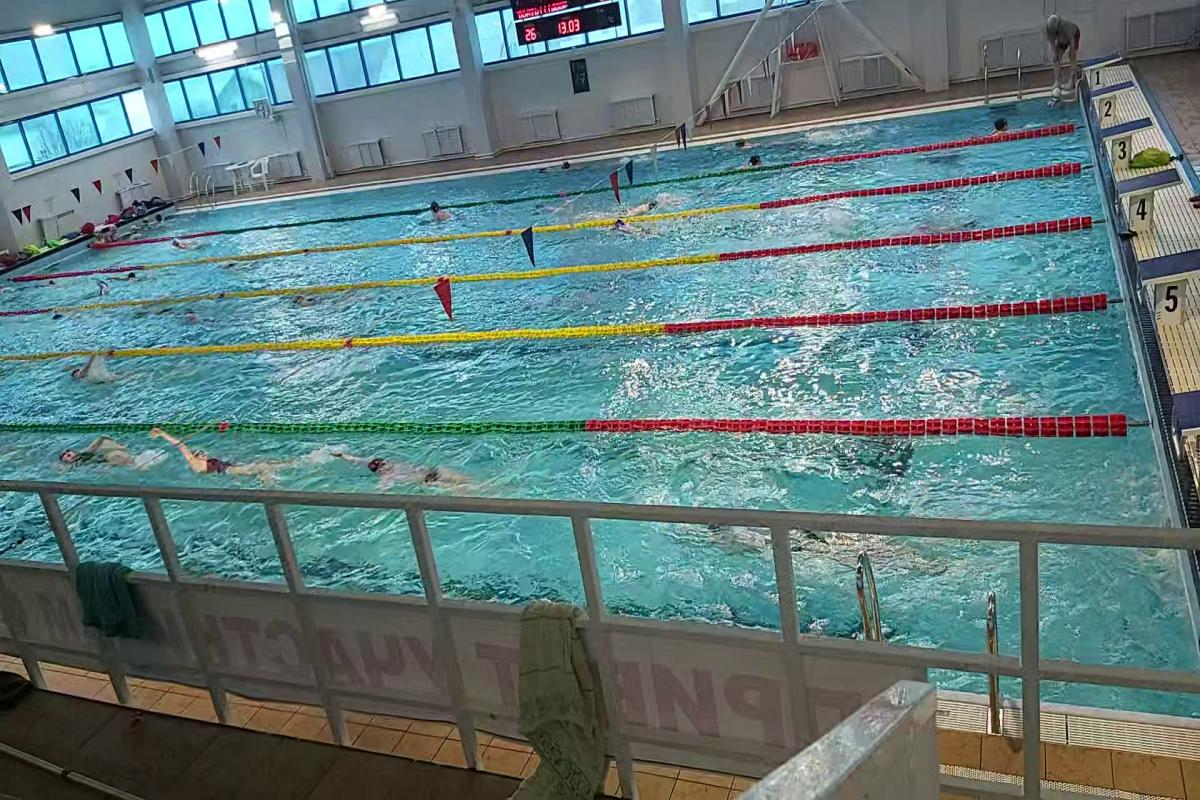swimmer: (718, 517, 925, 567), (150, 426, 295, 484), (333, 445, 495, 496), (49, 434, 144, 479), (67, 352, 122, 394), (283, 286, 353, 312), (605, 198, 666, 215), (426, 200, 458, 229)
